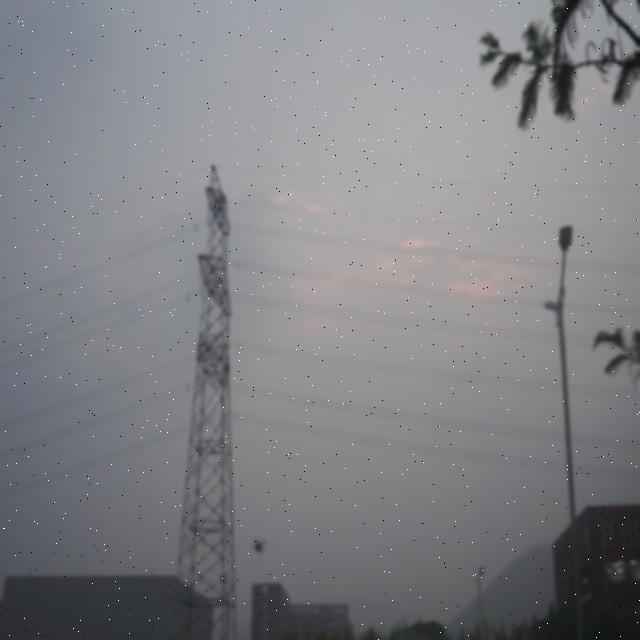UAV: (251, 538, 267, 554)
